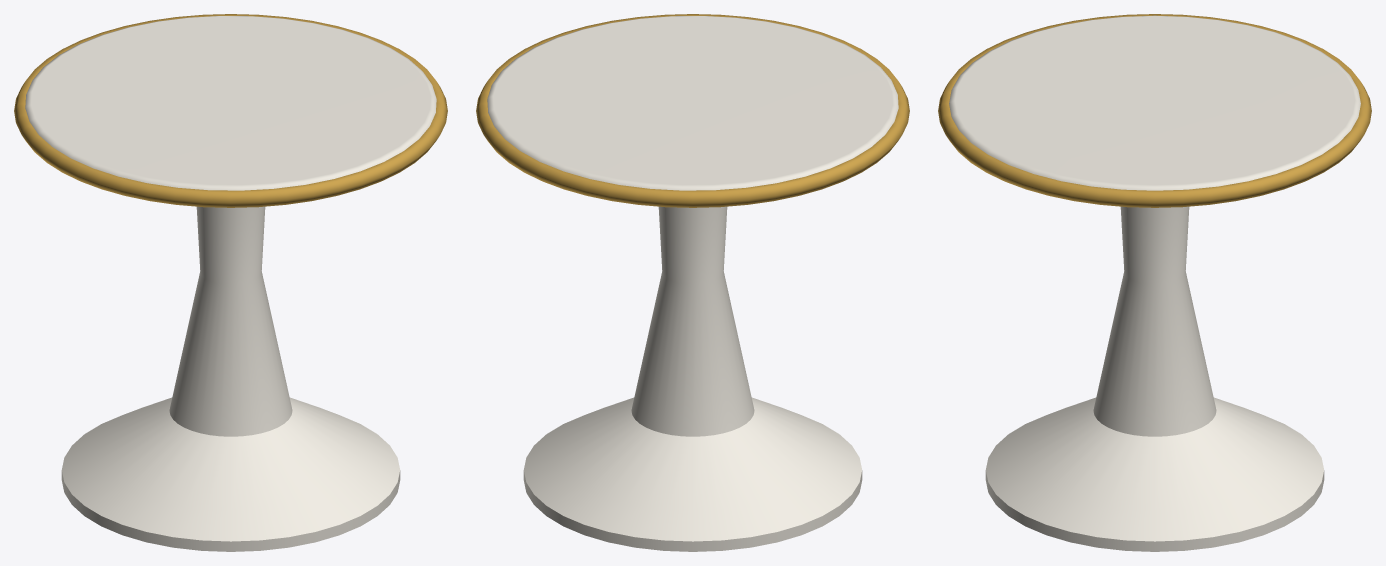
Rendered from pedestal_table.glb.
3 renders of one model, left to right at view 1: azimuth 30°, elevation 25°; view 2: azimuth 150°, elevation 25°; view 3: azimuth 270°, elevation 25°, orthographic.
Visible parts, largest first — view 1: model; view 2: model; view 3: model.
Part boxes in pixels (bbox=[...]): model: bbox=[14, 14, 447, 551]; model: bbox=[476, 14, 909, 551]; model: bbox=[938, 14, 1371, 551].
Size of the model in its own units: 0.564 by 0.545 by 0.564.
2 materials, 2 textured.
